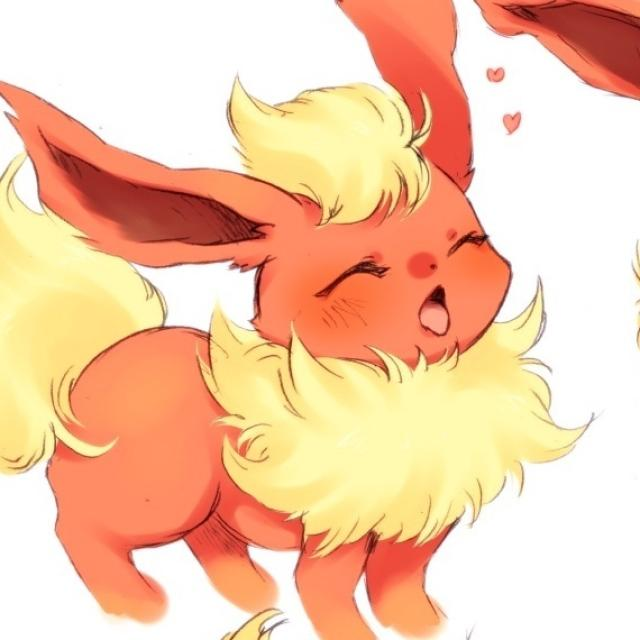Flareon: (41, 81, 512, 616)
